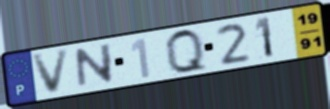1: (254, 14, 275, 61), (130, 36, 151, 80)
2: (213, 22, 253, 67)
N: (73, 41, 116, 91)
Q: (163, 27, 211, 75)
V: (30, 46, 73, 96)
